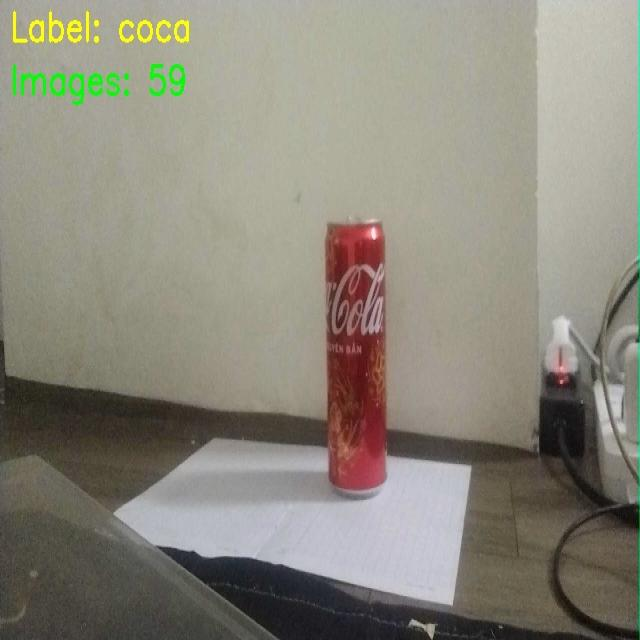Coca: (312, 180, 410, 512)
